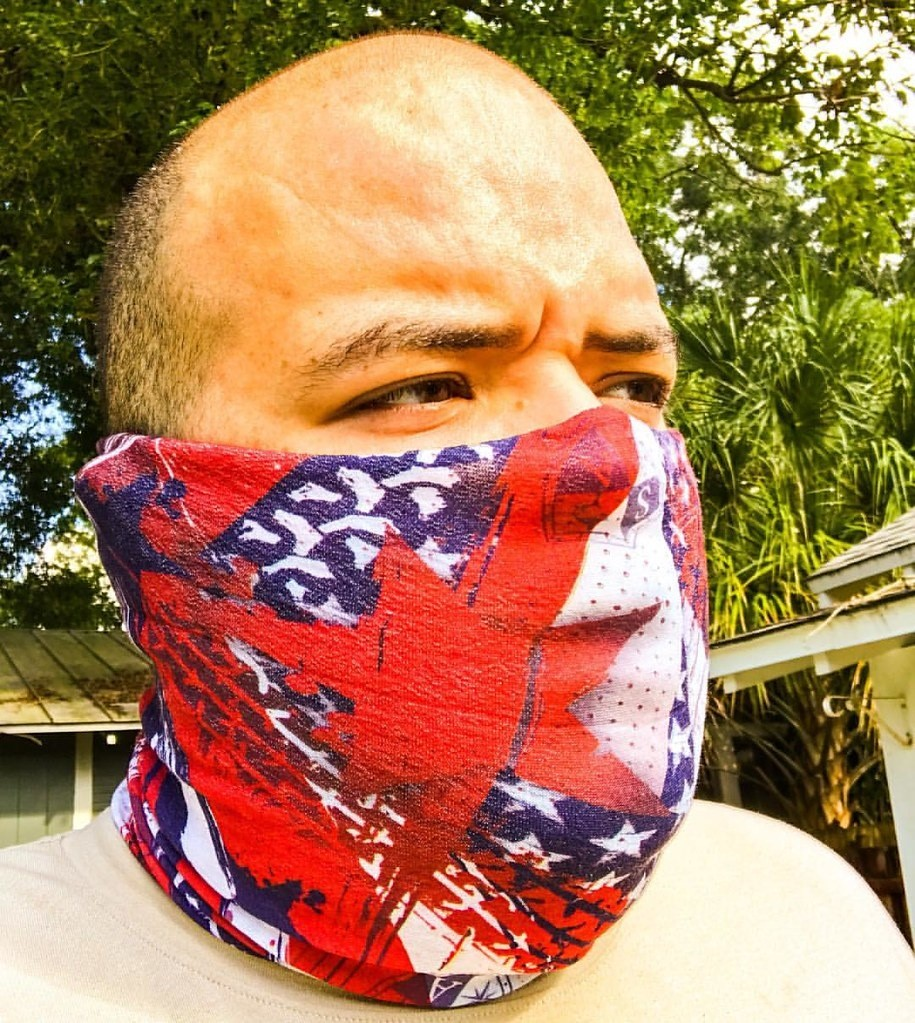face_with_mask: (123, 65, 713, 937)
